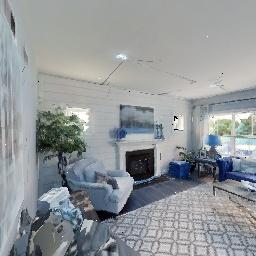sofa: (59, 149, 143, 226)
table: (208, 173, 256, 223)
